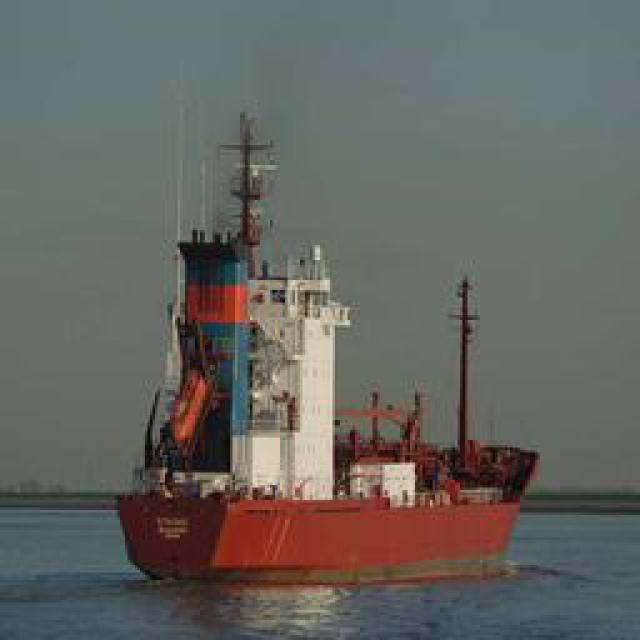Ship: (122, 144, 542, 595)
